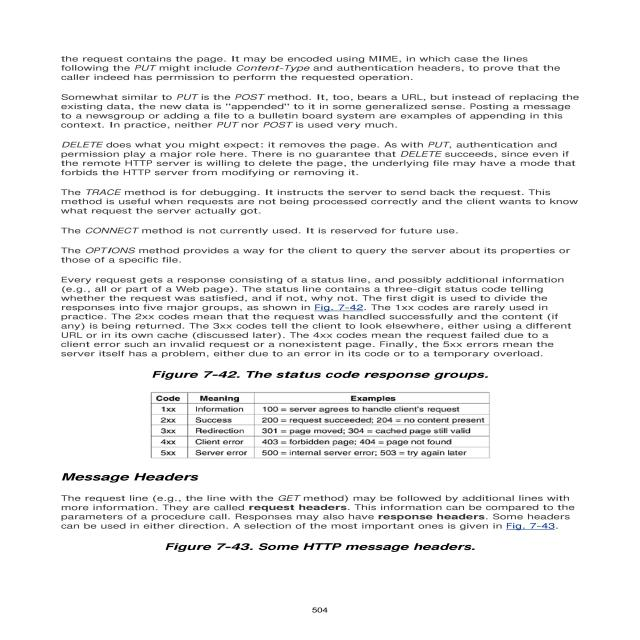diagram: (85, 365, 558, 463)
